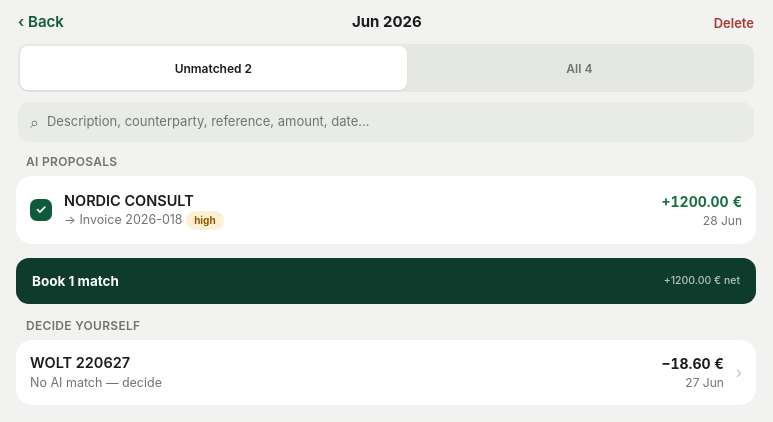
it: StatementScreen search (issue #278) › a cached proposal on a line booked meanwhile is never "hidden by the search" (without a search)
The width and height of the screenshot is (773, 422).
Click the button "Book 1 match +1200.00 € net".
click(50, 281)  # box [16, 258, 756, 304]
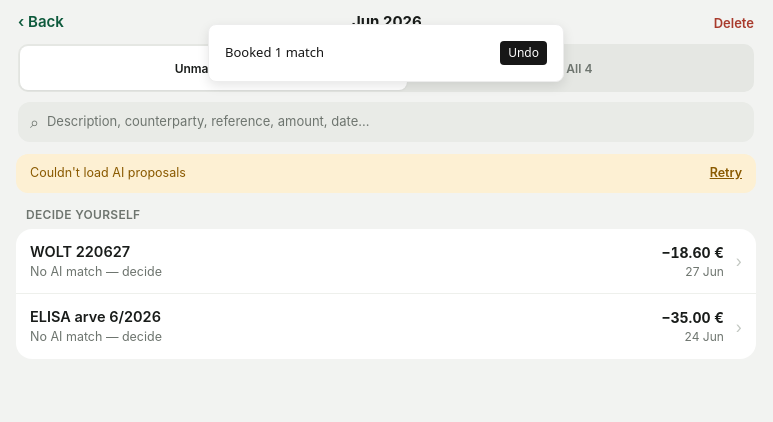
Expected: the text "Booked 1 match" is shown, [225, 43, 324, 63]
Expected: the text "Couldn't load AI proposals" is shown, [30, 164, 186, 183]
Expected: the button "Book 1 match" is gone
